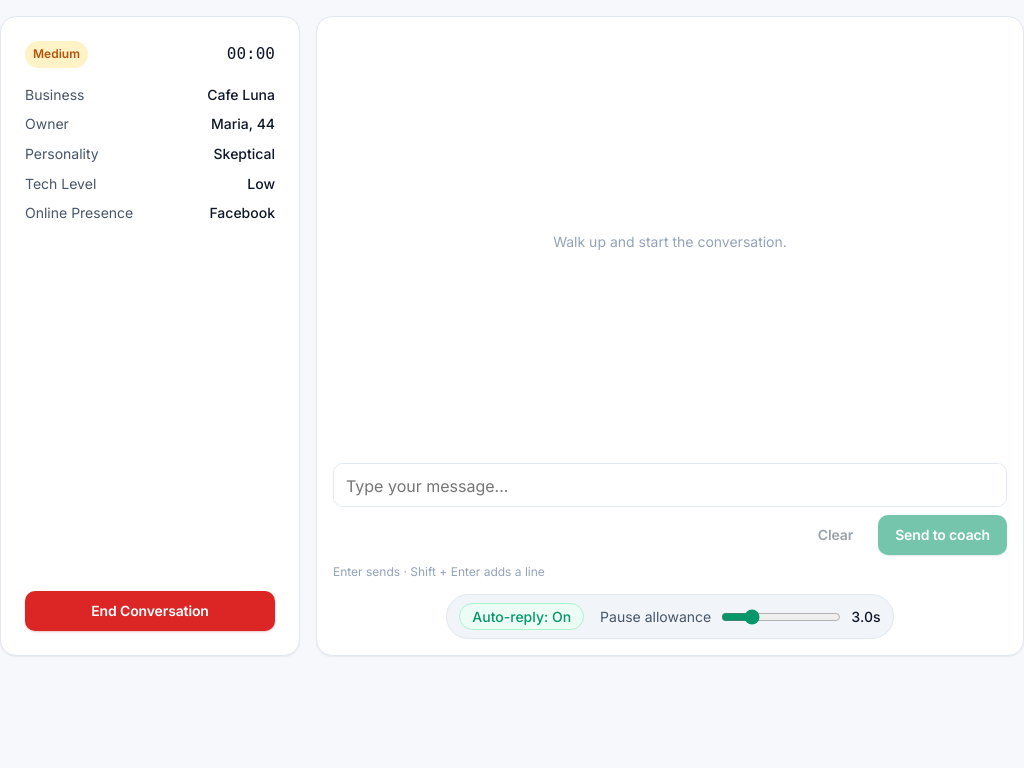
Test: Conversation › shows the owner reply once the turn is sent
Type "Hi there" into the text box labelled "Type your message...". click: point(670, 485)
box: [333,463,1007,507]
Then press Enter
Wait 3000 ms
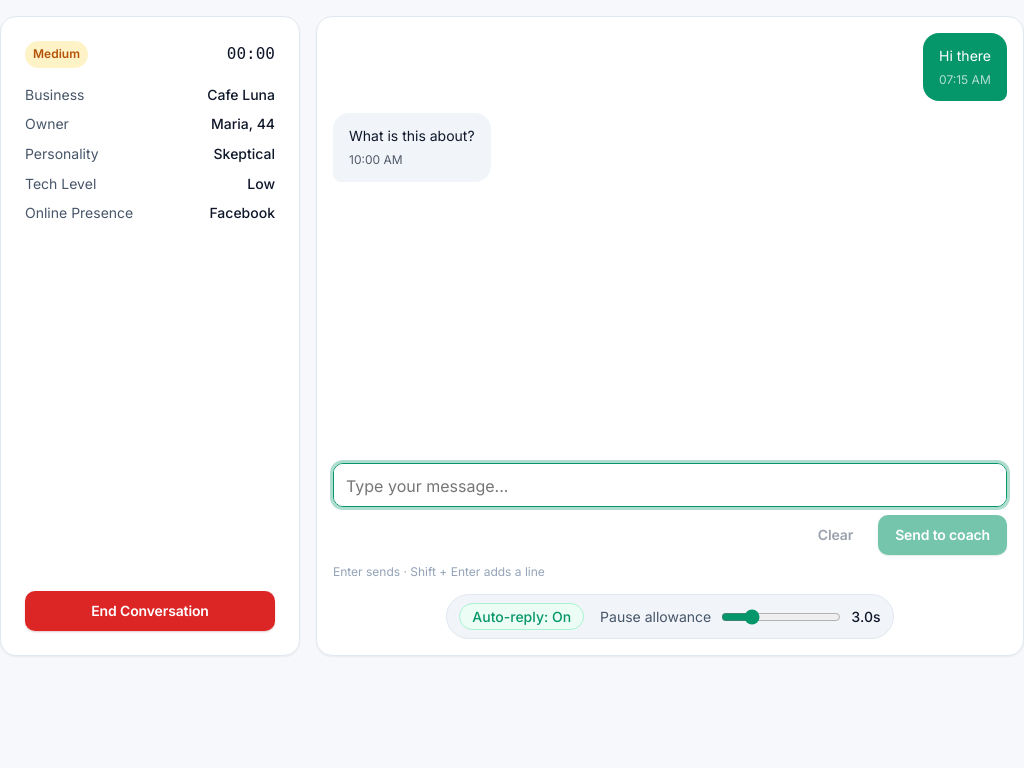
Expected: the text "What is this about?" is shown, [349,125,475,147]
